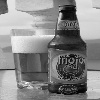beer: (51, 4, 90, 98)
